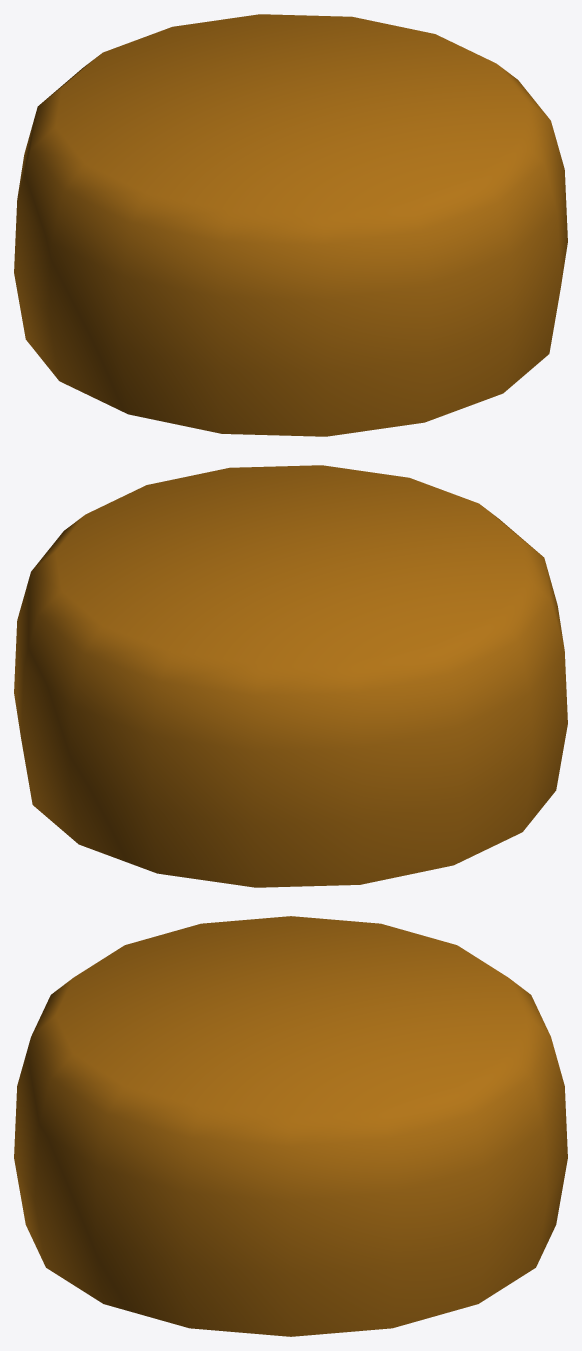
File: Tapa_02.fbx
The picture shows the model from 3 angles, top to bottom: view 1: azimuth 30°, elevation 25°; view 2: azimuth 150°, elevation 25°; view 3: azimuth 270°, elevation 25°; orthographic projection.
Visible parts, largest first — view 1: Tapa_02; view 2: Tapa_02; view 3: Tapa_02.
Boxes of the visible parts, x1,y1,x2,y2 form: Tapa_02: (14,14,567,436); Tapa_02: (14,465,567,887); Tapa_02: (14,916,567,1336).
Size of the model in its own units: 9.59 by 4.03 by 9.59.
